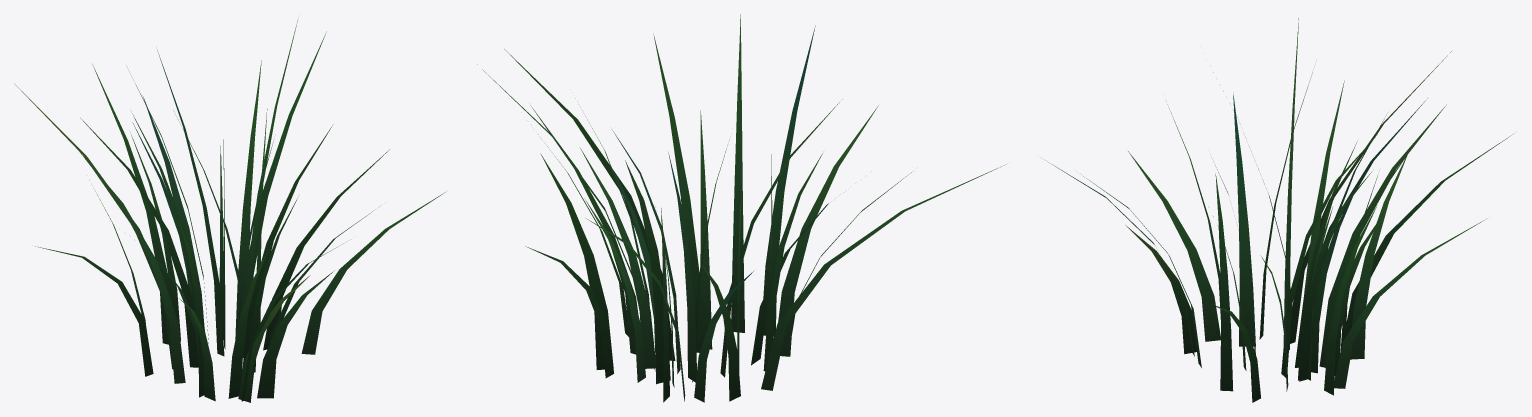
File: cimen_uzun.glb
3 views of the same model, side by side, from view 1: azimuth 30°, elevation 25°; view 2: azimuth 150°, elevation 25°; view 3: azimuth 270°, elevation 25° (orthographic). The views are drawn at different scales.
Visible parts, largest first — view 1: cimen_uzun_LOD0; view 2: cimen_uzun_LOD0; view 3: cimen_uzun_LOD0.
Boxes of the visible parts, <box> form: cimen_uzun_LOD0: <box>14,20,446,402</box>; cimen_uzun_LOD0: <box>477,14,1006,402</box>; cimen_uzun_LOD0: <box>1045,18,1512,402</box>.
Size of what is drawn, in the model's own units: 1.15 by 0.7354 by 1.1.
